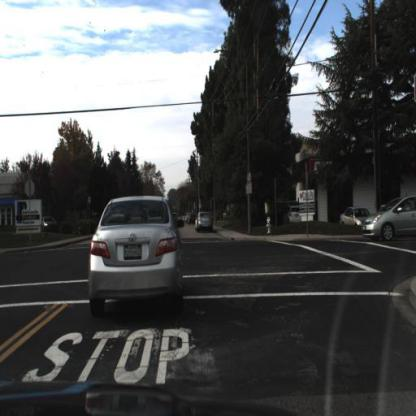car: (82, 181, 189, 321), (359, 183, 416, 255), (340, 194, 367, 239), (282, 199, 310, 233), (192, 206, 219, 237), (38, 210, 58, 239)
